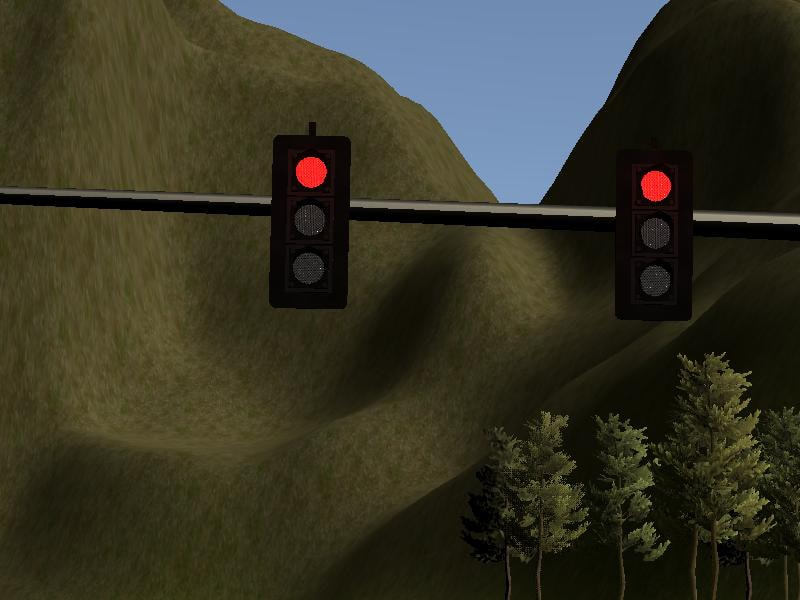red: (271, 136, 347, 311), (616, 144, 692, 319)
